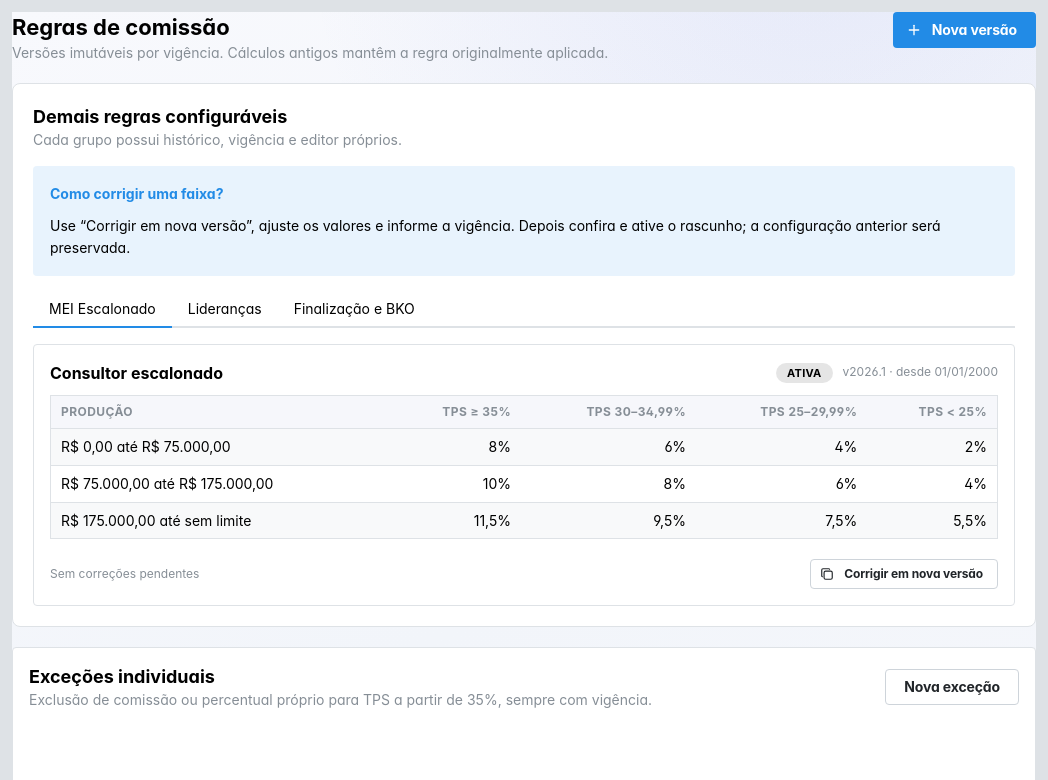
CommissionRulesPage › apresenta os demais percentuais documentados por estratégia
Expected: the text "11,5%" is shown, [391,502,521,539]
Click the tab "Lideranças". click: coordinates (225, 310)
box: [172,292,278,328]
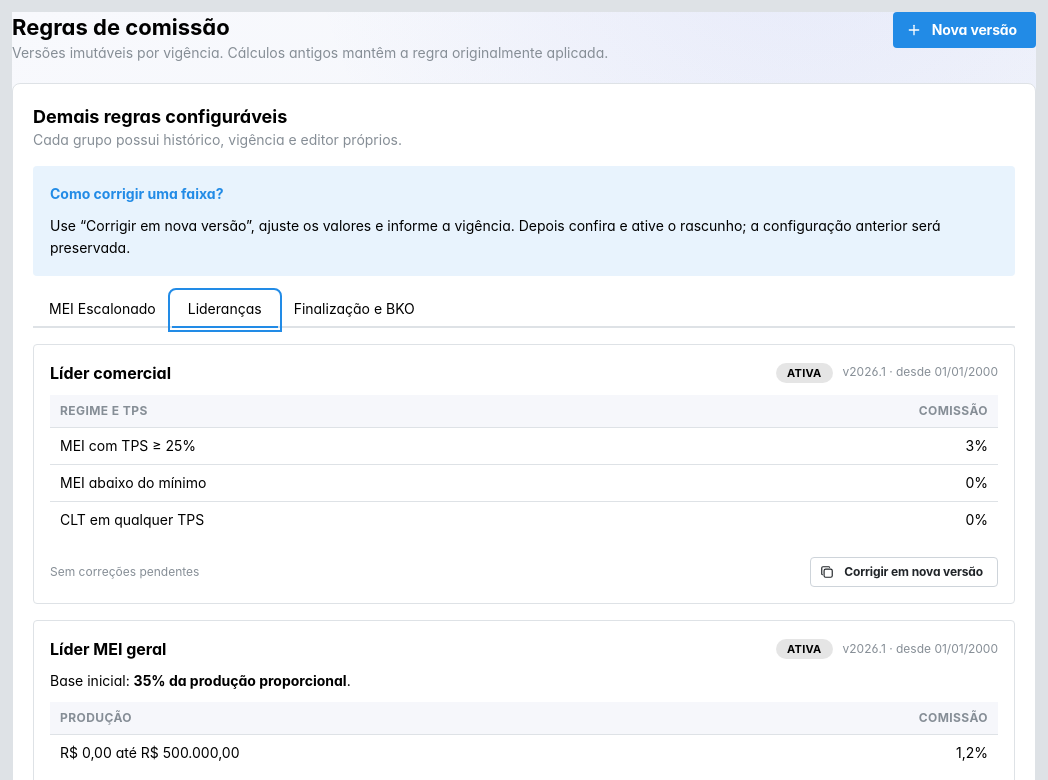
Result: the text "35% da produção proporcional" is shown at [134,672,347,689]
Result: the text "1,2%" is shown at [705,735,998,771]
Click the tab "Finalização e BKO". click: coordinates (354, 310)
box: [278,292,431,328]
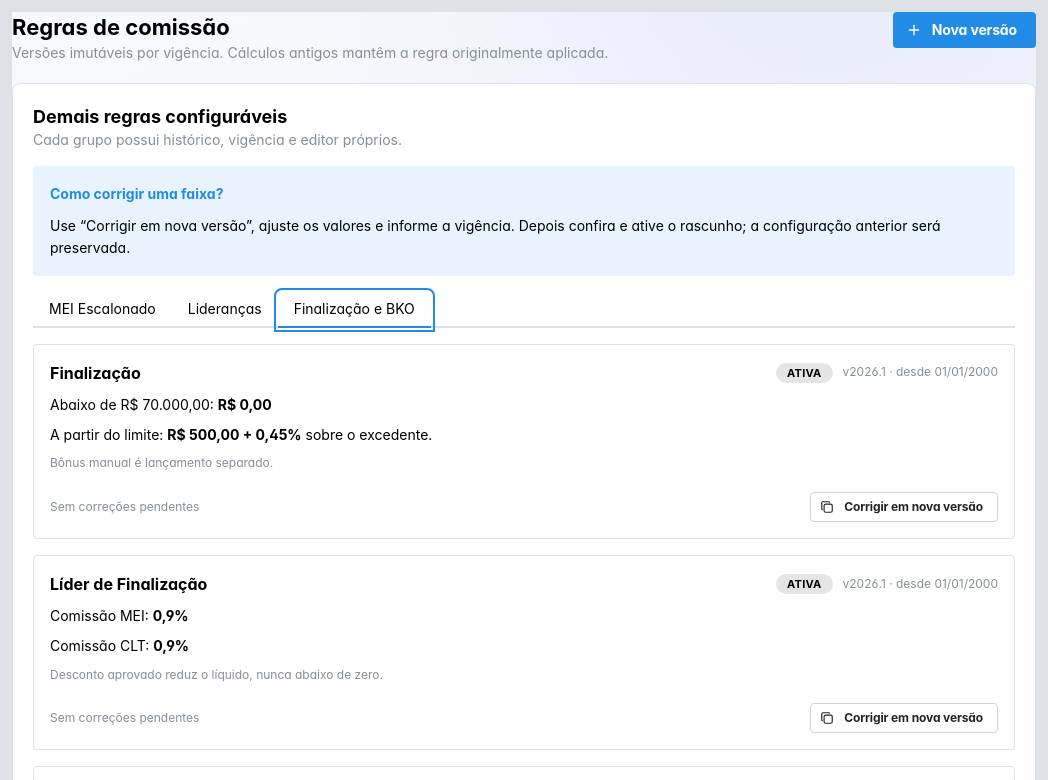
Result: the text "R$ 500,00 + 0,45%" is shown at [167,426,302,443]
Result: the text "0,9%" next to "Comissão MEI:" is shown at [153,607,189,624]
